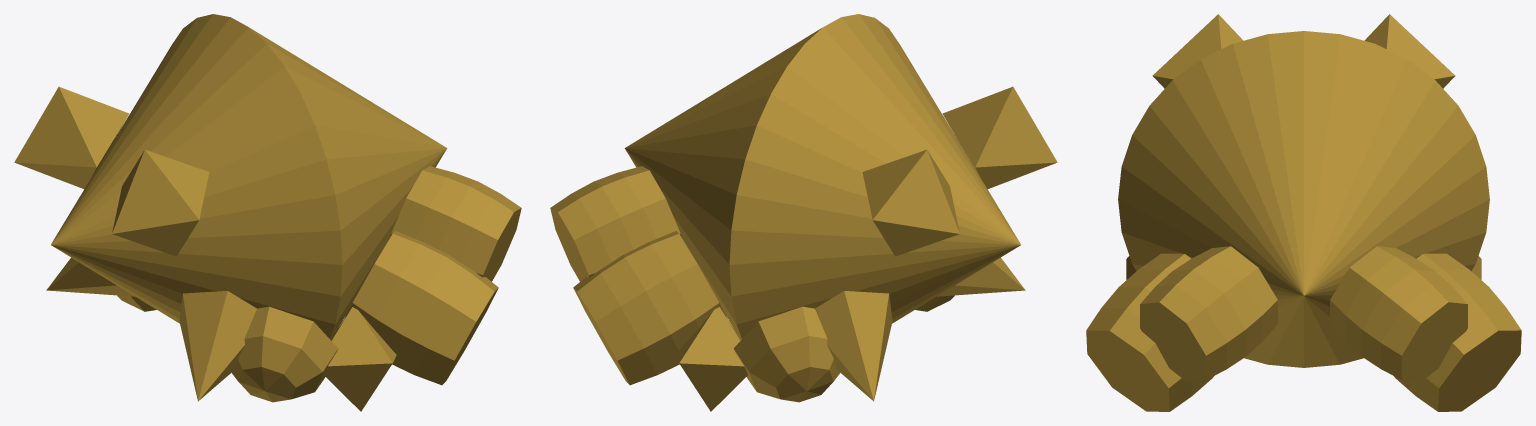
File: exp2_spindle_sym_03.glb
3 renders of one model, left to right at view 1: azimuth 30°, elevation 25°; view 2: azimuth 150°, elevation 25°; view 3: azimuth 270°, elevation 25°, orthographic.
Parts seen in each view (by area): view 1: exp2_spindle_sym_03; view 2: exp2_spindle_sym_03; view 3: exp2_spindle_sym_03.
Part boxes in pixels (x1=…): exp2_spindle_sym_03: x1=14, y1=14, x2=521, y2=411; exp2_spindle_sym_03: x1=550, y1=14, x2=1057, y2=411; exp2_spindle_sym_03: x1=1086, y1=14, x2=1521, y2=411.
Bounding box in the file's own units: 1.67 × 1.3 × 1.52.
